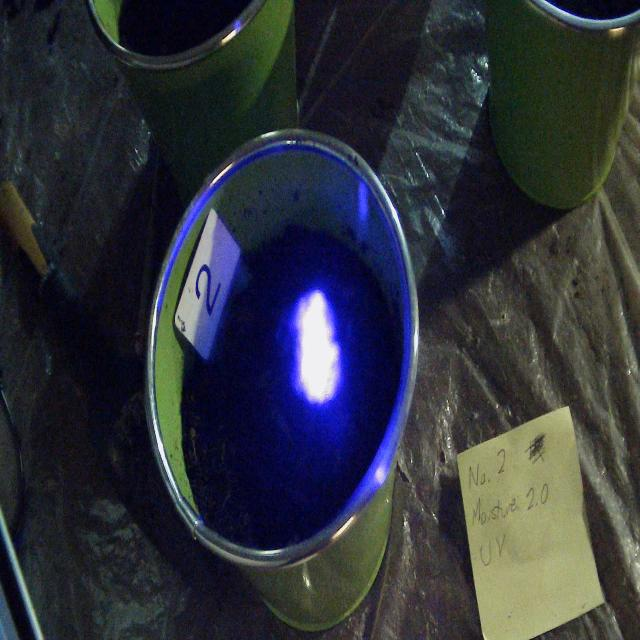soil-moisture-2.0: (293, 288, 342, 407)
